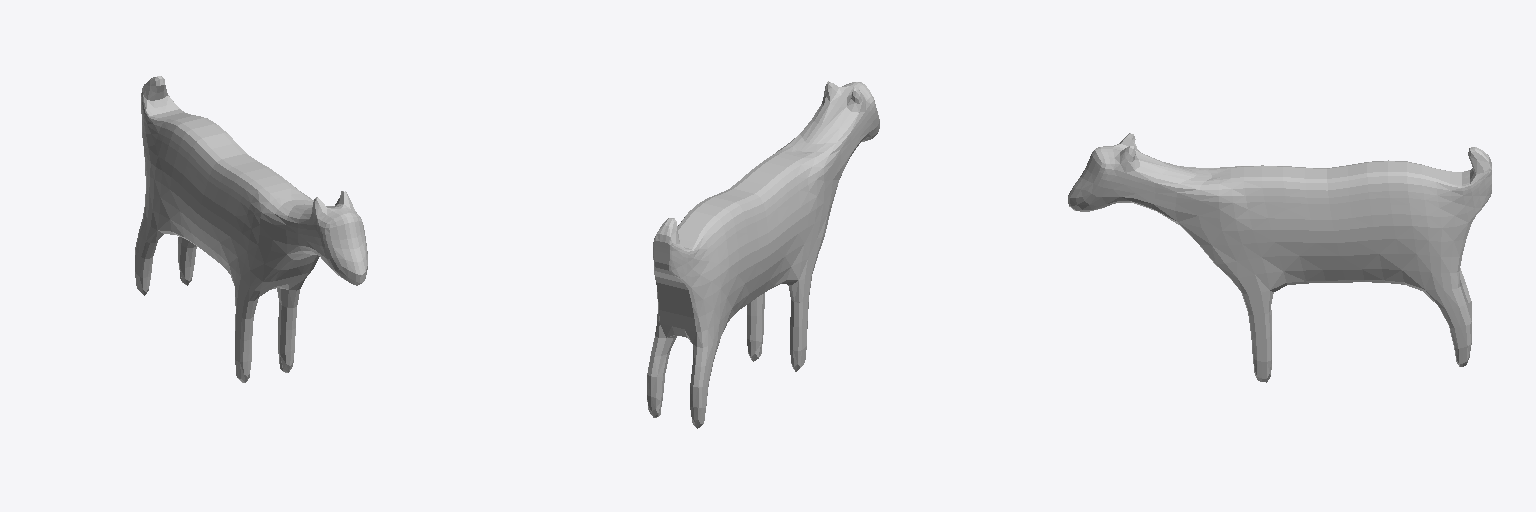
File: capra grande.obj
3 renders of one model, left to right at view 1: azimuth 30°, elevation 25°; view 2: azimuth 150°, elevation 25°; view 3: azimuth 270°, elevation 25°, orthographic.
Parts seen in each view (by area): view 1: Cube; view 2: Cube; view 3: Cube.
Part boxes in pixels (x1,y1,x2,y2): Cube: (135, 76, 367, 382); Cube: (647, 81, 879, 428); Cube: (1068, 133, 1491, 382).
Size of the model in its own units: 1.11 by 4.4 by 7.3.